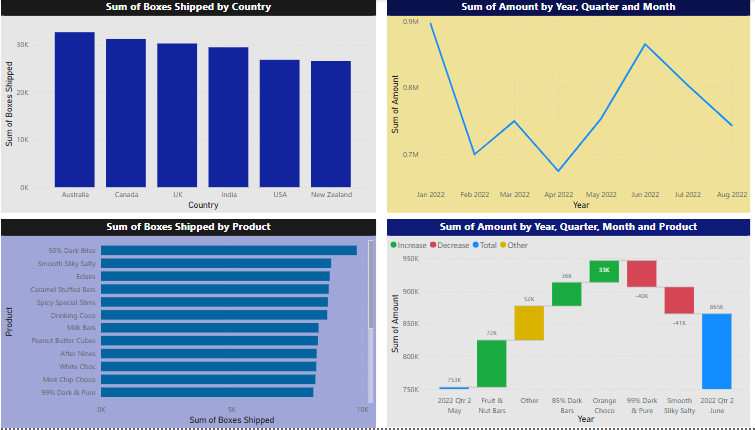

What the dashboard file says about the page in this screenshot:
{"tool":"powerbi","page":{"name":"Page 1","canvas":[1280,720],"ordinal":0},"visuals":[{"type":"columnChart","fields":{"Category":["data.Country"],"Y":["Sum(data.Boxes Shipped)"]},"box":[10.1,0,629.9,359.5],"z":0},{"type":"clusteredBarChart","fields":{"Category":["data.Product"],"Y":["Sum(data.Boxes Shipped)"]},"box":[10.1,369.6,629.9,351.1],"z":1000},{"type":"lineChart","fields":{"Category":["data.Date.Variation.Date Hierarchy.Year","data.Date.Variation.Date Hierarchy.Quarter","data.Date.Variation.Date Hierarchy.Month","data.Date.Variation.Date Hierarchy.Day"],"Y":["Sum(data.Amount)"]},"box":[658.5,0,609.8,359.5],"z":2000},{"type":"waterfallChart","fields":{"Category":["data.Date.Variation.Date Hierarchy.Year","data.Date.Variation.Date Hierarchy.Quarter","data.Date.Variation.Date Hierarchy.Month"],"Breakdown":["data.Product"],"Y":["Sum(data.Amount)"]},"box":[658,370,610,350],"z":3000}]}

Visuals, with their boxes in screenshot pixels (x1, y1, x2, y2), scaled from the page's 1280x720 canvas onto the 755x430 screenshot:
columnChart - data.Country x Sum(data.Boxes Shipped): 6,0,378,215
clusteredBarChart - data.Product x Sum(data.Boxes Shipped): 6,221,378,429
lineChart - data.Date.Variation.Date Hierarchy.Year x data.Date.Variation.Date Hierarchy.Quarter: 388,0,748,215
waterfallChart - data.Date.Variation.Date Hierarchy.Year x data.Date.Variation.Date Hierarchy.Quarter: 388,221,748,429
